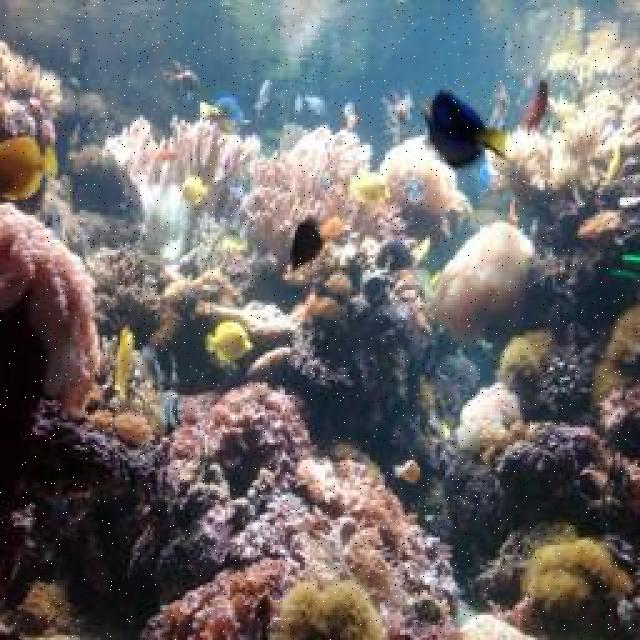fish: (421, 87, 511, 170), (0, 135, 56, 202), (204, 321, 255, 365), (348, 172, 390, 202), (524, 78, 549, 127), (181, 177, 210, 205), (391, 459, 421, 484)
reefs: (101, 98, 471, 350), (126, 384, 460, 638), (486, 27, 637, 211), (0, 200, 102, 421), (432, 221, 534, 343), (0, 42, 62, 146)
